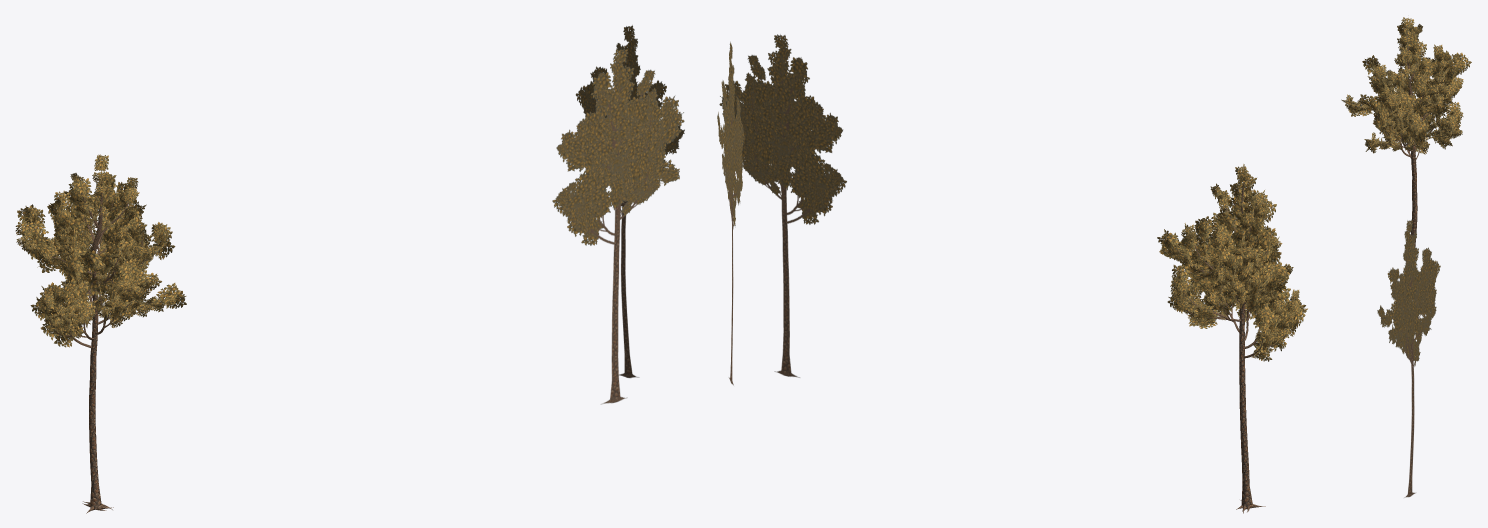
File: tree2.glb
3 renders of one model, left to right at view 1: azimuth 30°, elevation 25°; view 2: azimuth 150°, elevation 25°; view 3: azimuth 270°, elevation 25°, orthographic. The views are drawn at different scales.
Visible parts, largest first — view 1: Empty.008, Leaves_LOD0.001, Branches_LOD0.001; view 2: Empty.008, Leaves_LOD0.001, Branches_LOD0.001; view 3: Leaves_LOD0.001, Empty.008, Branches_LOD0.001.
Boxes of the visible parts, <box> form: Empty.008: <box>552,25,684,404</box>; Leaves_LOD0.001: <box>15,154,186,347</box>; Branches_LOD0.001: <box>29,179,161,513</box>; Empty.008: <box>717,34,846,385</box>; Leaves_LOD0.001: <box>1157,164,1307,361</box>; Branches_LOD0.001: <box>1177,182,1289,513</box>; Leaves_LOD0.001: <box>1341,17,1471,154</box>; Empty.008: <box>1377,220,1440,497</box>; Branches_LOD0.001: <box>1355,32,1454,278</box>.
Bounding box in the file's own units: 31.94 × 17.33 × 7.45.
Materials: 3 (3 with a texture image).
